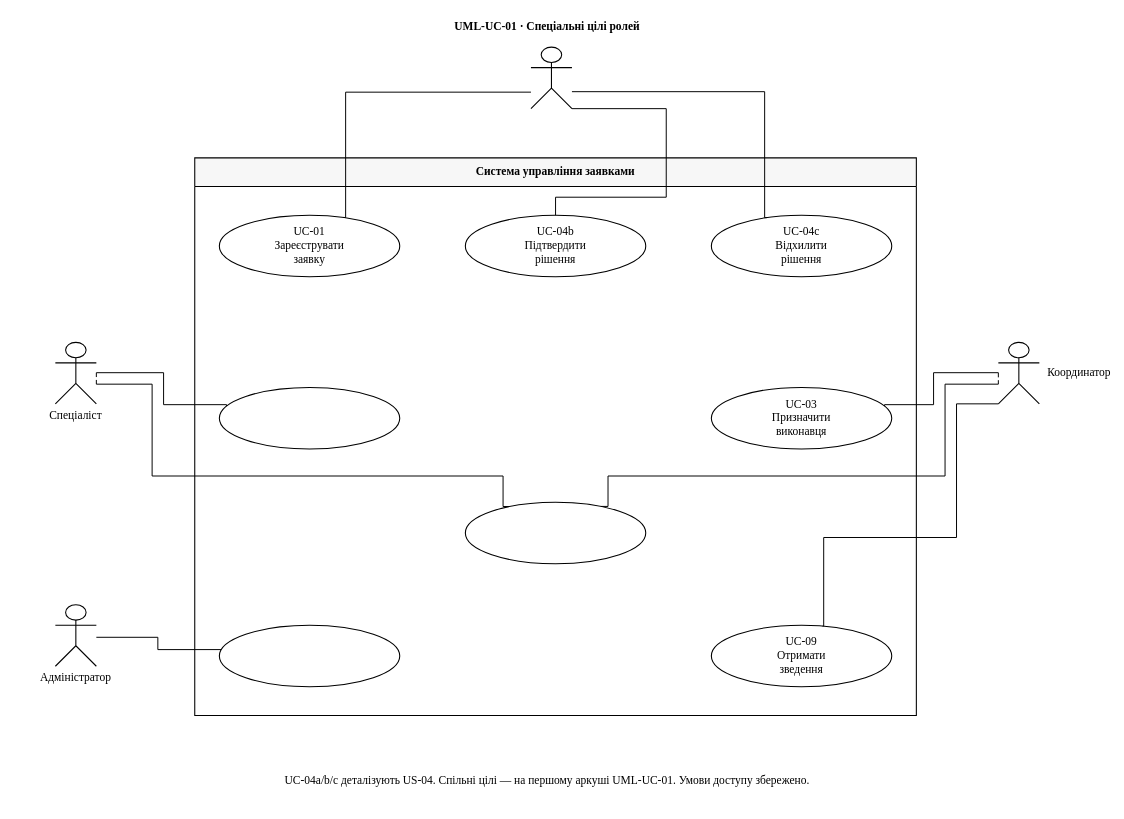
Some shapes in this 1124 by 819 pixel diagram are drawn without their labels. Each missing label, with the centre of its shape:
"UC-04a Опрацювати заявку" belongs at point 309,418.
"UC-07 Переглянути строки" belongs at point 555,532.
"UC-10 Змінити налаштування" belongs at point 309,655.
"Заявник" belongs at point 551,77.
